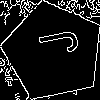J: (28, 26, 80, 61)
